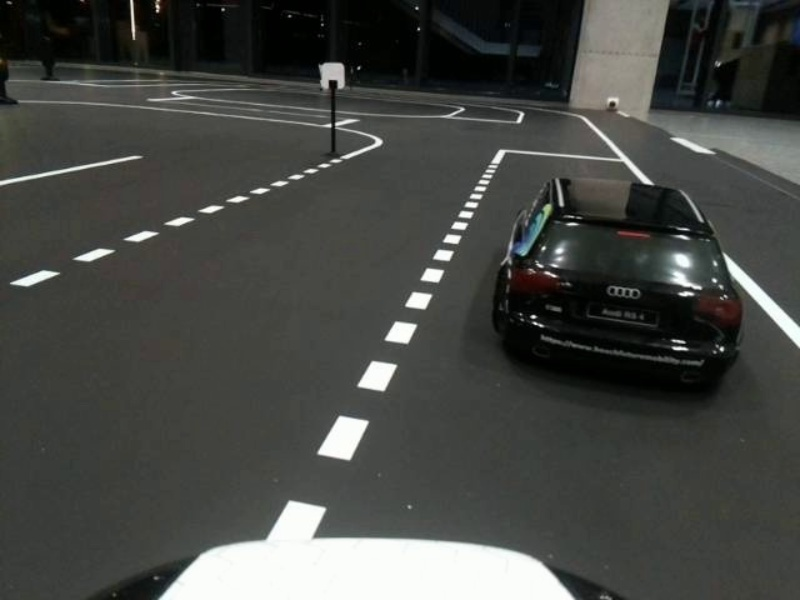car: (475, 160, 761, 407)
